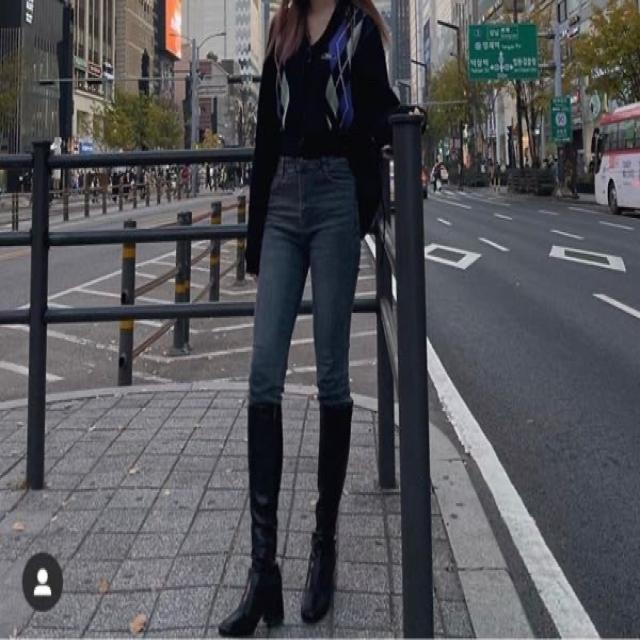cardigan: (249, 0, 384, 265)
denimpants: (248, 153, 357, 564)
